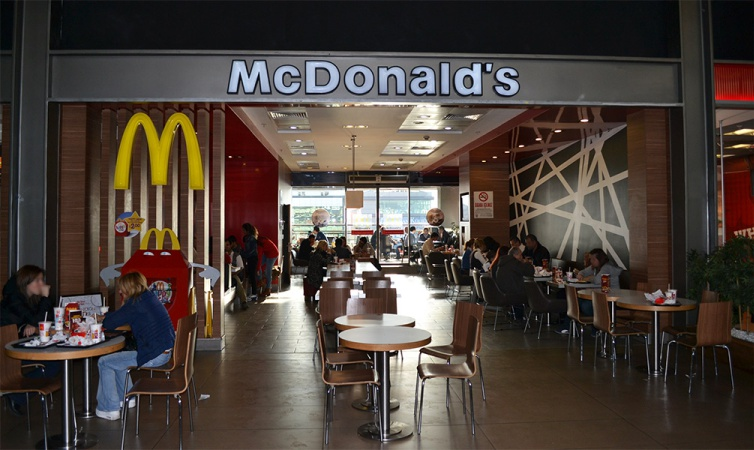mcdonalds: (109, 109, 213, 211)
